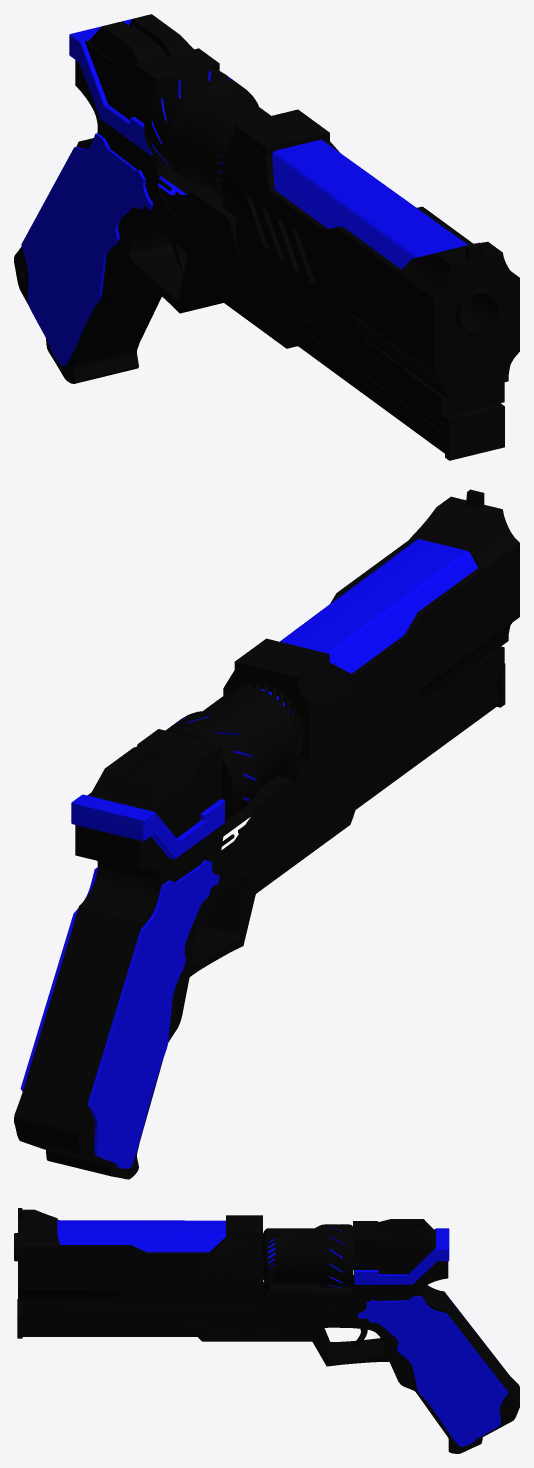
Rendered from Power Gun.glb.
The picture shows the model from 3 angles, top to bottom: view 1: azimuth 30°, elevation 25°; view 2: azimuth 150°, elevation 25°; view 3: azimuth 270°, elevation 25°; orthographic projection. The views are drawn at different scales.
Parts seen in each view (by area): view 1: GUN Downbase, GUN bulletholeway, GUN Handleglow, GUN FrontTopglow, Barrel GUN, GUN downchin, GUN Backtop, GUN upchin, GUN bulletwayhead, GUN backtophead, GUN polySurface30, GUN Backtopglow (+1 smaller); view 2: GUN Downbase, GUN bulletholeway, GUN Handleglow, GUN FrontTopglow, Barrel GUN, GUN downchin, GUN upchin, GUN Backtop, GUN Backtopglow, GUN backtophead, GUN bulletwayhead, GUN polySurface30; view 3: GUN Downbase, GUN bulletholeway, GUN Handleglow, Barrel GUN, GUN FrontTopglow, GUN downchin, GUN upchin, GUN Backtop, GUN Backtopglow, GUN backtophead, GUN polySurface30, GUN bulletwayhead.
Part boxes in pixels (x1,y1,x2,y2): GUN Downbase: [14, 60, 504, 417]; GUN bulletholeway: [223, 109, 519, 372]; GUN Handleglow: [21, 133, 186, 365]; GUN FrontTopglow: [272, 139, 467, 269]; Barrel GUN: [144, 66, 270, 198]; GUN downchin: [295, 322, 504, 460]; GUN Backtop: [85, 40, 219, 123]; GUN upchin: [235, 217, 414, 377]; GUN bulletwayhead: [398, 241, 519, 298]; GUN backtophead: [88, 14, 193, 70]; GUN polySurface30: [345, 308, 518, 396]; GUN Backtopglow: [69, 19, 153, 155]; GUN Downbase: [14, 646, 504, 1179]; GUN bulletholeway: [223, 543, 519, 759]; GUN Handleglow: [20, 860, 219, 1168]; GUN FrontTopglow: [280, 539, 478, 673]; Barrel GUN: [165, 682, 304, 821]; GUN downchin: [355, 663, 505, 809]; GUN upchin: [277, 668, 473, 802]; GUN Backtop: [87, 729, 222, 837]; GUN Backtopglow: [71, 794, 224, 859]; GUN backtophead: [90, 745, 196, 809]; GUN bulletwayhead: [398, 496, 519, 569]; GUN polySurface30: [415, 623, 511, 701]; GUN Downbase: [22, 1261, 519, 1453]; GUN bulletholeway: [18, 1215, 262, 1289]; GUN Handleglow: [357, 1295, 508, 1446]; Barrel GUN: [263, 1224, 353, 1287]; GUN FrontTopglow: [57, 1220, 225, 1252]; GUN downchin: [17, 1299, 197, 1338]; GUN upchin: [57, 1278, 263, 1308]; GUN Backtop: [353, 1221, 435, 1274]; GUN Backtopglow: [354, 1228, 449, 1284]; GUN backtophead: [377, 1219, 433, 1246]; GUN polySurface30: [18, 1289, 134, 1302]; GUN bulletwayhead: [18, 1209, 59, 1246].
Bounding box in the file's own units: 1.03 × 4.23 × 8.27.
